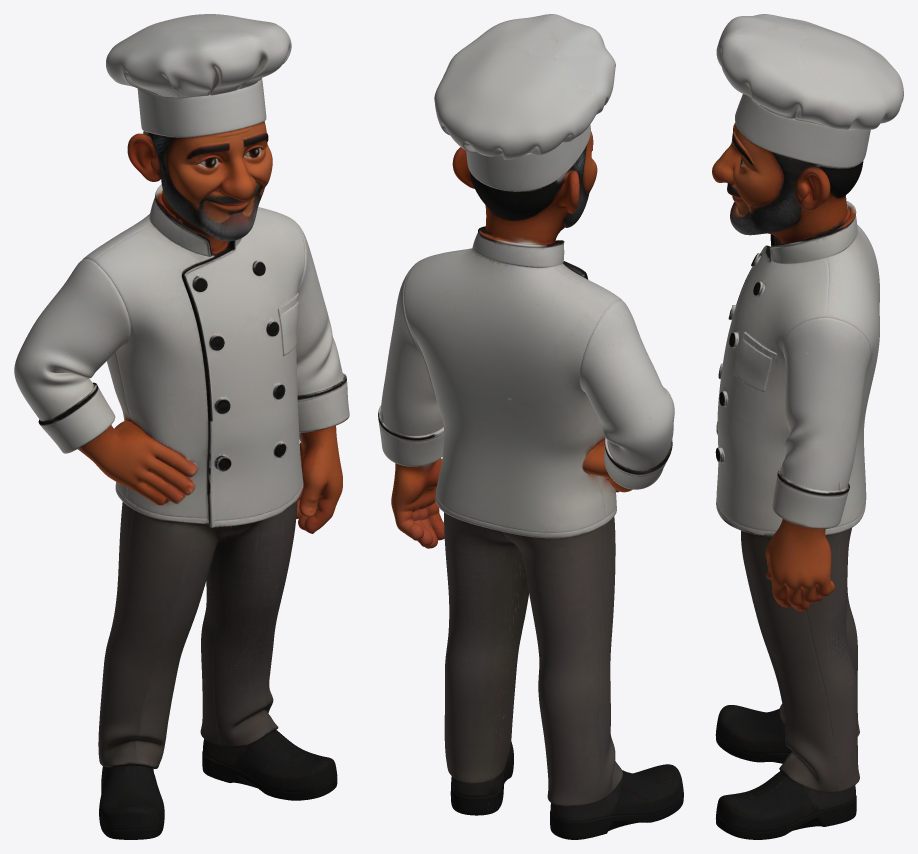
Rendered from agent-19.glb.
3 views of the same model, side by side, from view 1: azimuth 30°, elevation 25°; view 2: azimuth 150°, elevation 25°; view 3: azimuth 270°, elevation 25° (orthographic).
Parts seen in each view (by area): view 1: material; view 2: material; view 3: material.
Part boxes in pixels (x1,y1,x2,y2): material: [14, 14, 349, 839]; material: [378, 14, 683, 839]; material: [712, 14, 903, 839].
Bounding box in the file's own units: 0.4755 × 1.15 × 0.2605.
Materials: 1 (1 with a texture image).
